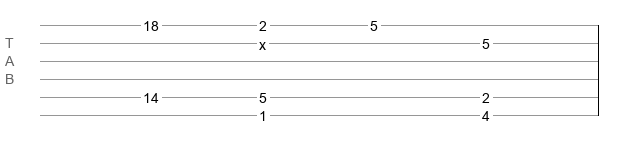1: (259, 108, 267, 118)
14: (143, 90, 159, 100)
18: (143, 18, 159, 28)
2: (259, 18, 267, 28), (482, 90, 490, 100)
4: (482, 108, 490, 118)
5: (259, 90, 267, 100), (370, 18, 378, 28), (482, 36, 490, 46)
x: (259, 37, 266, 45)
